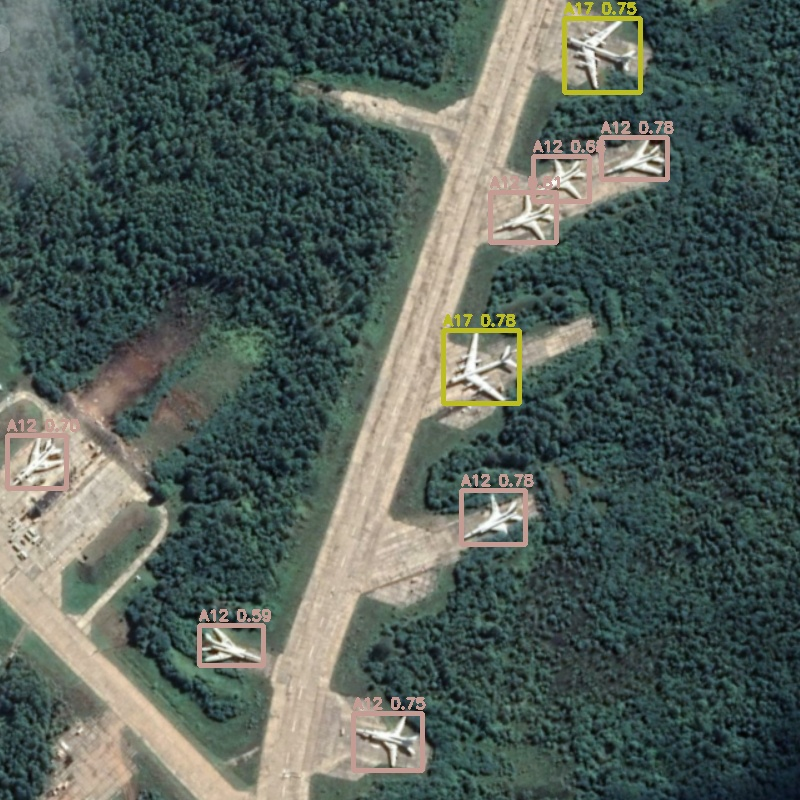A12: (353, 713, 422, 770), (461, 490, 525, 544), (490, 192, 556, 242), (7, 435, 66, 488), (601, 137, 667, 179), (199, 625, 263, 665), (533, 156, 589, 201)
A17: (564, 18, 640, 92), (443, 330, 519, 403)
